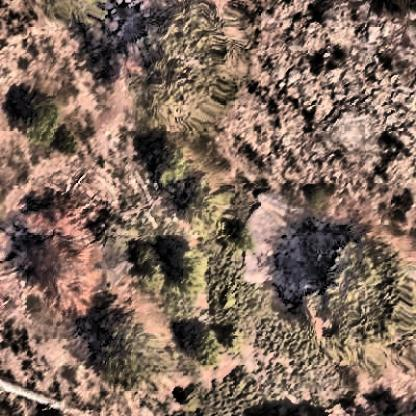tree-top: (304, 229, 412, 362), (125, 7, 224, 113), (74, 295, 162, 390), (119, 229, 213, 301), (9, 87, 66, 149), (169, 313, 231, 370), (173, 171, 229, 228), (144, 141, 188, 191)
